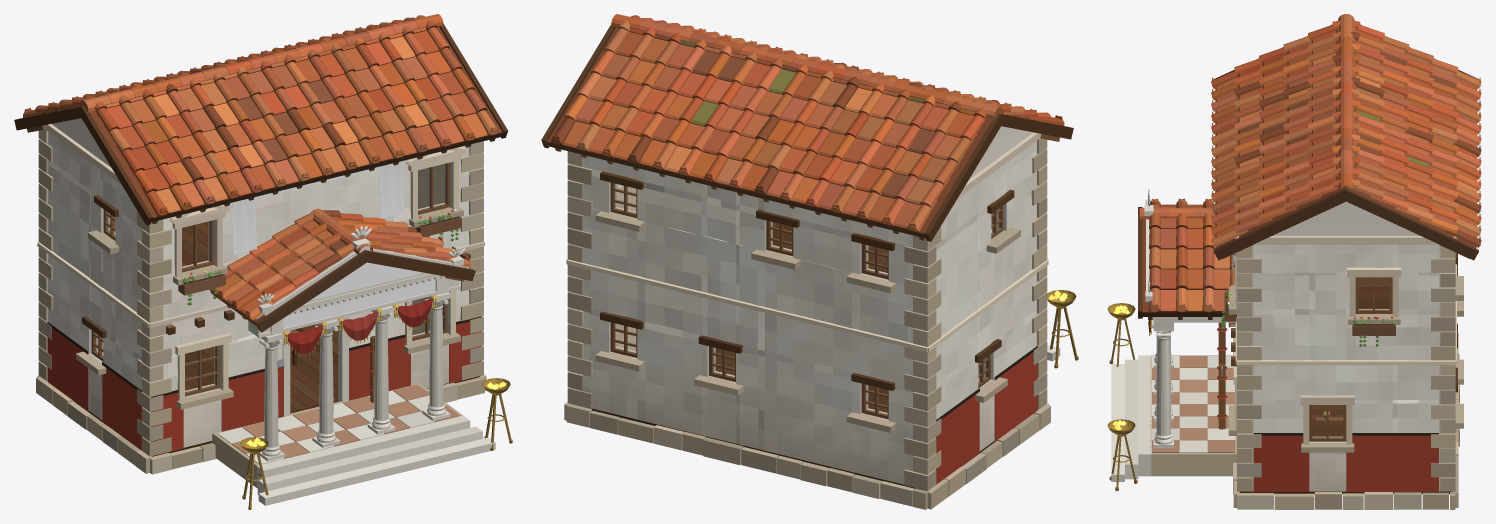
Rendered from civ_prefect.glb.
3 renders of one model, left to right at view 1: azimuth 30°, elevation 25°; view 2: azimuth 150°, elevation 25°; view 3: azimuth 270°, elevation 25°, orthographic. The views are drawn at different scales.
Visible parts, largest first — view 1: House, Walls, Rooms; view 2: House, Walls, Rooms; view 3: House, Walls, Rooms.
Part boxes in pixels (left/top/right/bottom): House: left=14, top=14, right=512, bottom=509; Walls: left=47, top=118, right=480, bottom=447; Rooms: left=102, top=164, right=443, bottom=413; House: left=541, top=14, right=1078, bottom=509; Walls: left=571, top=126, right=1037, bottom=484; Rooms: left=617, top=184, right=992, bottom=412; House: left=1107, top=14, right=1481, bottom=509; Walls: left=1239, top=201, right=1453, bottom=491; Rooms: left=1312, top=277, right=1389, bottom=436.
Size of the model in its own units: 6.11 by 5.41 by 5.57.
Materials: 10 (10 with a texture image).
